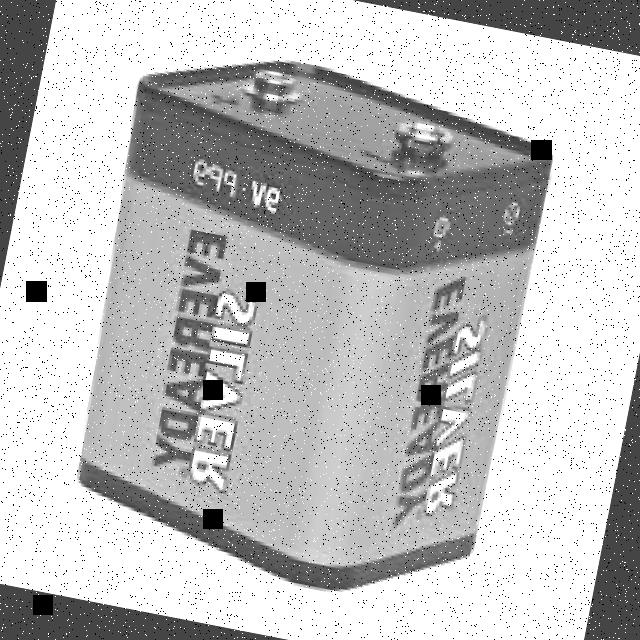battery: (76, 59, 555, 593)
